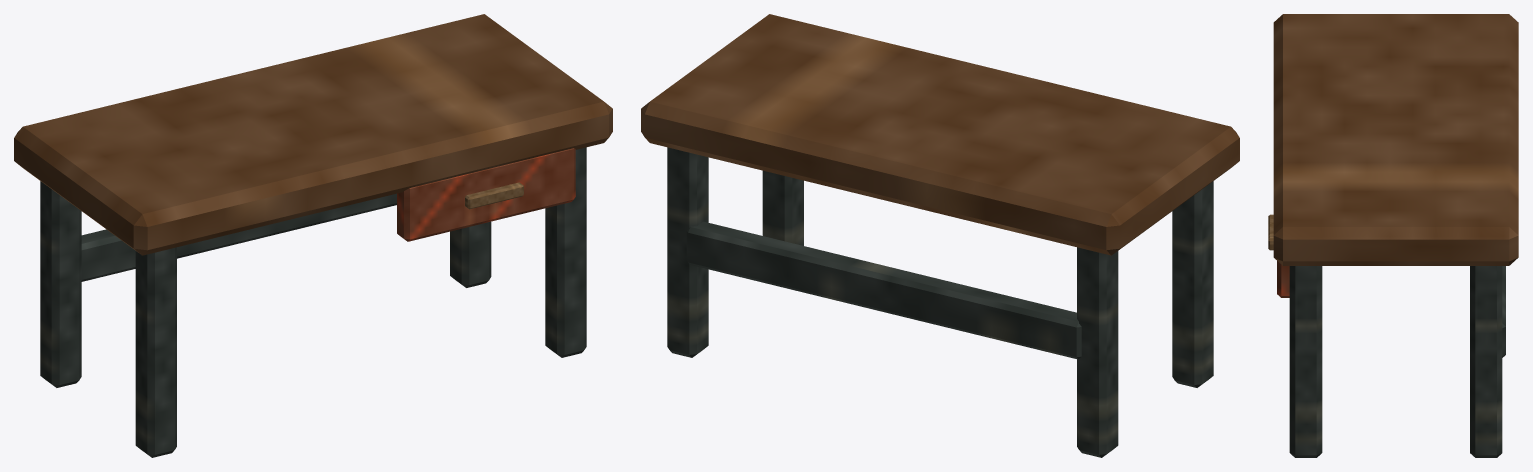
File: SH_POC_RadioDesk.fbx
3 renders of one model, left to right at view 1: azimuth 30°, elevation 25°; view 2: azimuth 150°, elevation 25°; view 3: azimuth 270°, elevation 25°, orthographic. The views are drawn at different scales.
Parts seen in each view (by area): view 1: SH_POC_RadioDesk; view 2: SH_POC_RadioDesk; view 3: SH_POC_RadioDesk.
Part boxes in pixels (box(x1,y1,x2,y2)): SH_POC_RadioDesk: box(14, 14, 612, 457); SH_POC_RadioDesk: box(641, 14, 1239, 457); SH_POC_RadioDesk: box(1268, 14, 1518, 457).
Size of the model in its own units: 1.45 by 0.73 by 0.6945.
1 material, 1 textured.
